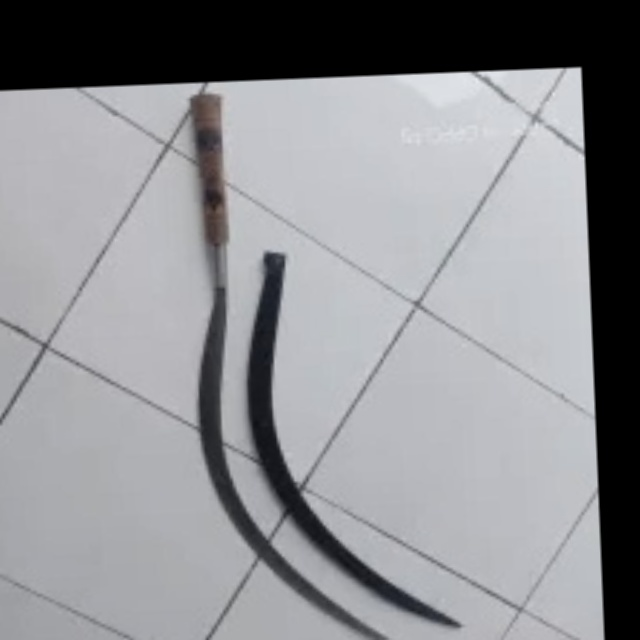Sharp-Object: (171, 91, 419, 640)
